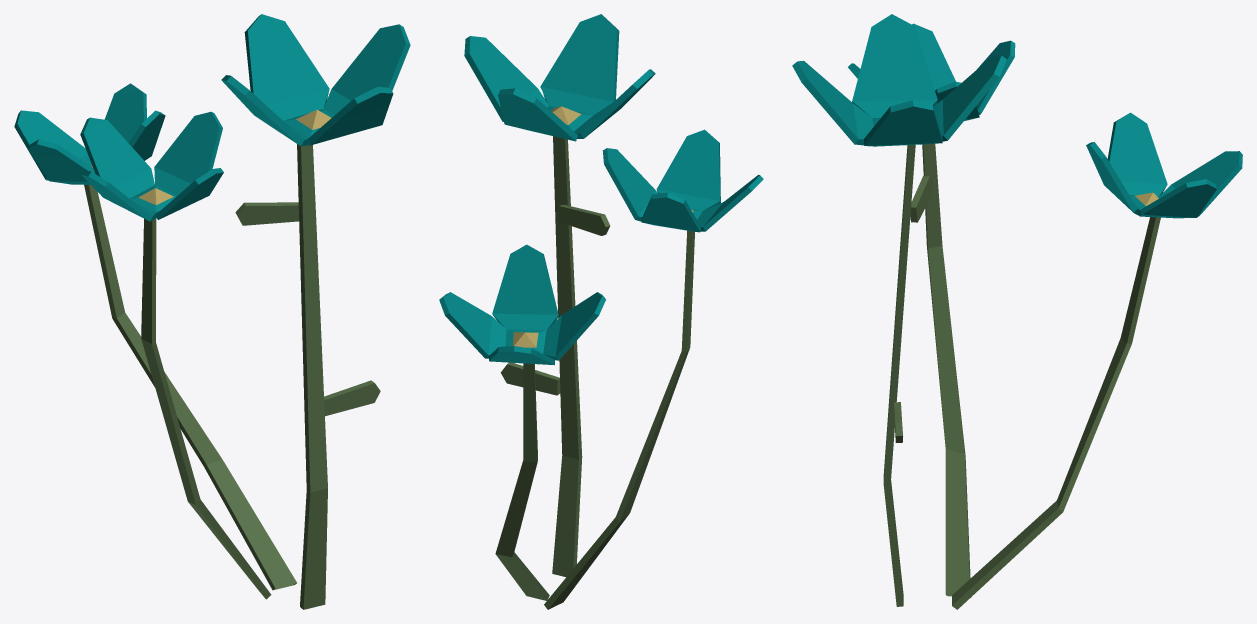
File: flowers.glb
3 views of the same model, side by side, from view 1: azimuth 30°, elevation 25°; view 2: azimuth 150°, elevation 25°; view 3: azimuth 270°, elevation 25° (orthographic). The views are drawn at different scales.
Parts seen in each view (by area): view 1: Flowers; view 2: Flowers; view 3: Flowers.
Boxes of the visible parts, x1=… form: Flowers: x1=14, y1=14, x2=410, y2=609; Flowers: x1=439, y1=14, x2=763, y2=609; Flowers: x1=792, y1=14, x2=1242, y2=609.
Size of the model in its own units: 0.4895 by 0.8289 by 0.6137.
